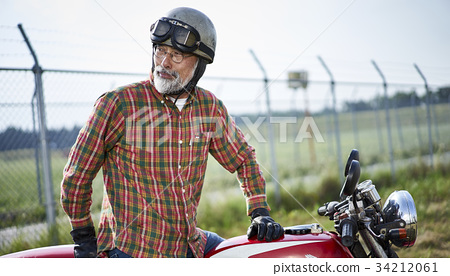helmet: (152, 1, 220, 58)
